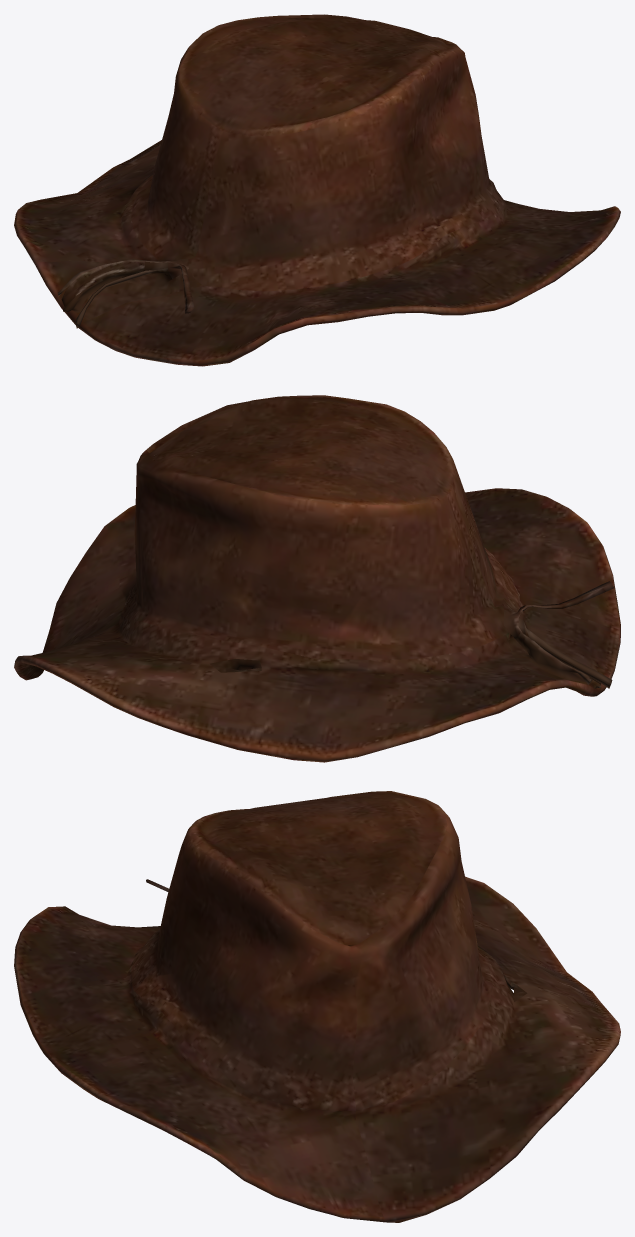
Rendered from wear-outback.glb.
3 views of the same model, one above another, from view 1: azimuth 30°, elevation 25°; view 2: azimuth 150°, elevation 25°; view 3: azimuth 270°, elevation 25° (orthographic). The views are drawn at different scales.
Visible parts, largest first — view 1: scan-0; view 2: scan-0; view 3: scan-0.
Boxes of the visible parts, left/top/right/bottom form: scan-0: left=14, top=14, right=620, bottom=366; scan-0: left=14, top=395, right=620, bottom=762; scan-0: left=14, top=791, right=620, bottom=1222.
Bounding box in the file's own units: 24 × 11.21 × 22.36.
Materials: 1 (1 with a texture image).
